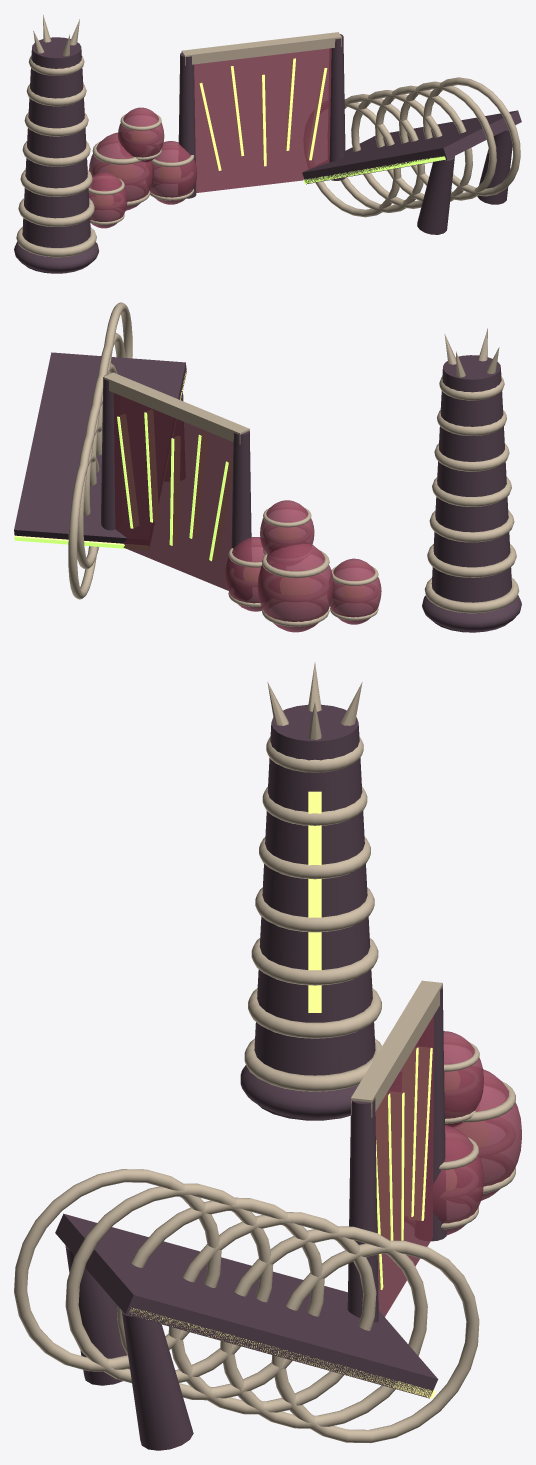
File: grafted-brood-obstacles.glb
3 views of the same model, one above another, from view 1: azimuth 30°, elevation 25°; view 2: azimuth 150°, elevation 25°; view 3: azimuth 270°, elevation 25° (orthographic). The views are drawn at different scales.
Visible parts, largest first — view 1: membrane_pane, pillar_trunk, ramp_deck, wall_lintel, eggsac_1, ramp_rib_6, eggsac_2, ramp_root_l, ramp_rib_5, wall_stanchion_r, eggsac_4, ramp_rib_4 (+21 smaller); view 2: membrane_pane, ramp_deck, pillar_trunk, eggsac_1, wall_lintel, eggsac_3, wall_stanchion_l, eggsac_4, eggsac_2, wall_stanchion_r, pillar_root_mass, ramp_rib_1 (+16 smaller); view 3: pillar_trunk, ramp_deck, membrane_pane, ramp_rib_1, ramp_rib_6, ramp_rib_5, ramp_rib_2, ramp_root_r, ramp_rib_3, ramp_rib_4, wall_stanchion_r, wall_lintel (+15 smaller).
Boxes of the visible parts, <box> form: membrane_pane: <box>194,48,331,192</box>; pillar_trunk: <box>22,37,90,273</box>; ramp_deck: <box>302,110,521,184</box>; wall_lintel: <box>181,32,341,65</box>; eggsac_1: <box>89,132,152,210</box>; ramp_rib_6: <box>423,77,520,196</box>; eggsac_2: <box>150,141,197,204</box>; ramp_root_l: <box>417,156,454,234</box>; ramp_rib_5: <box>399,81,496,200</box>; wall_stanchion_r: <box>329,34,345,180</box>; eggsac_4: <box>118,107,164,162</box>; ramp_rib_4: <box>375,85,472,201</box>; membrane_pane: <box>113,393,233,590</box>; ramp_deck: <box>14,352,186,543</box>; pillar_trunk: <box>431,355,511,632</box>; eggsac_1: <box>257,543,333,632</box>; wall_lintel: <box>103,372,249,444</box>; eggsac_3: <box>330,558,381,624</box>; wall_stanchion_l: <box>231,431,251,548</box>; eggsac_4: <box>260,500,314,554</box>; eggsac_2: <box>225,537,264,611</box>; wall_stanchion_r: <box>101,374,115,530</box>; pillar_root_mass: <box>422,595,521,631</box>; ramp_rib_1: <box>68,453,99,599</box>; pillar_trunk: <box>254,704,375,1120</box>; ramp_deck: <box>55,1213,438,1398</box>; membrane_pane: <box>375,1015,433,1316</box>; ramp_rib_1: <box>271,1240,479,1443</box>; ramp_rib_6: <box>14,1169,221,1371</box>; ramp_rib_5: <box>65,1183,273,1383</box>; ramp_rib_2: <box>220,1226,427,1428</box>; ramp_root_r: <box>121,1310,193,1450</box>; ramp_rib_3: <box>168,1212,376,1414</box>; ramp_rib_4: <box>117,1197,324,1400</box>; wall_stanchion_r: <box>347,1098,378,1322</box>; wall_lintel: <box>351,980,442,1117</box>.
Bounding box in the file's own units: 6.67 × 3.97 × 3.72.
